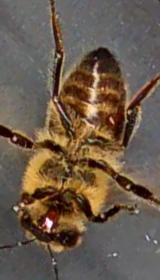varroa_mite: (100, 101, 128, 145)
